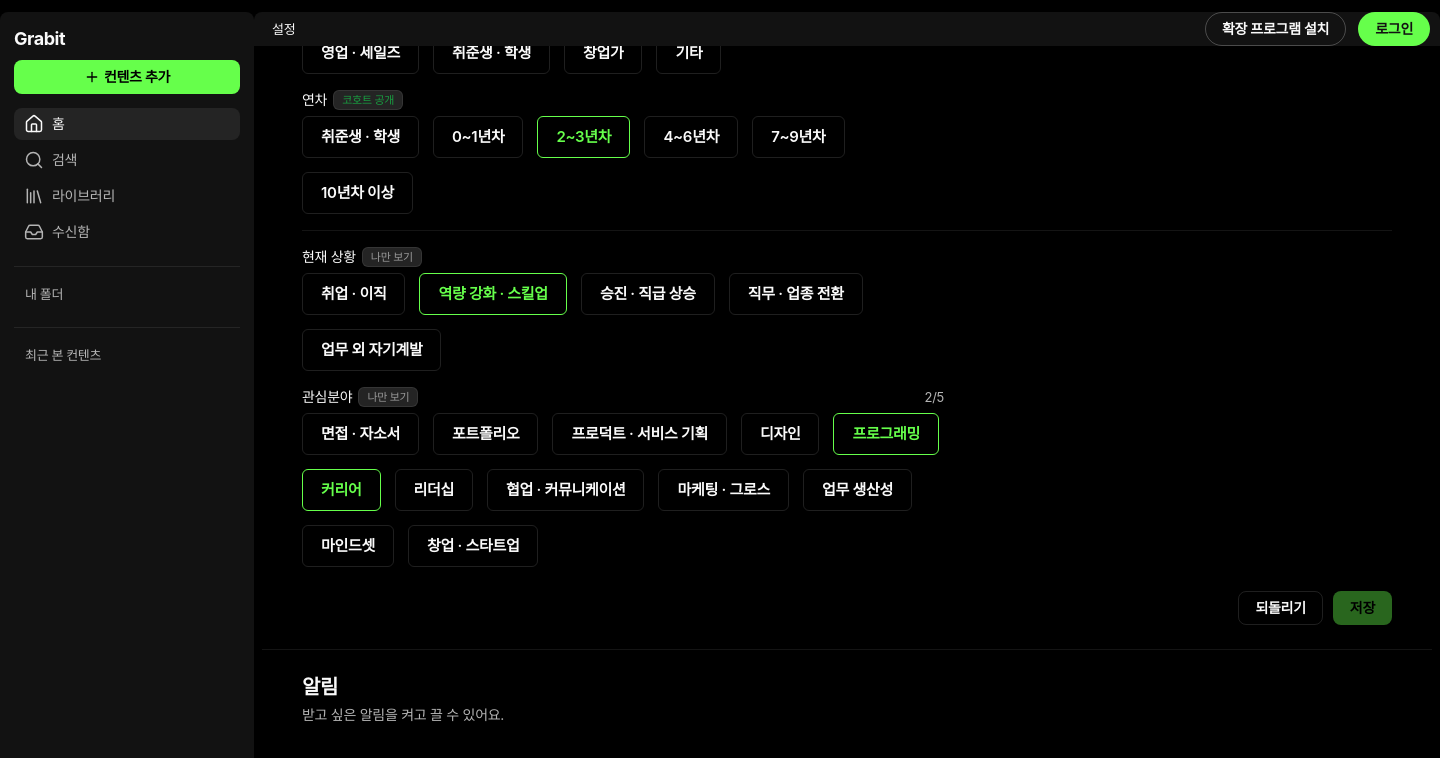
Scenario: settings contract › 프로필 수정: 관심분야 전부 해제 → 저장 차단(INTERESTS_MIN)
(page scrolled)
Click the button "프로그래밍".
click(886, 434)  # box [833, 413, 939, 455]
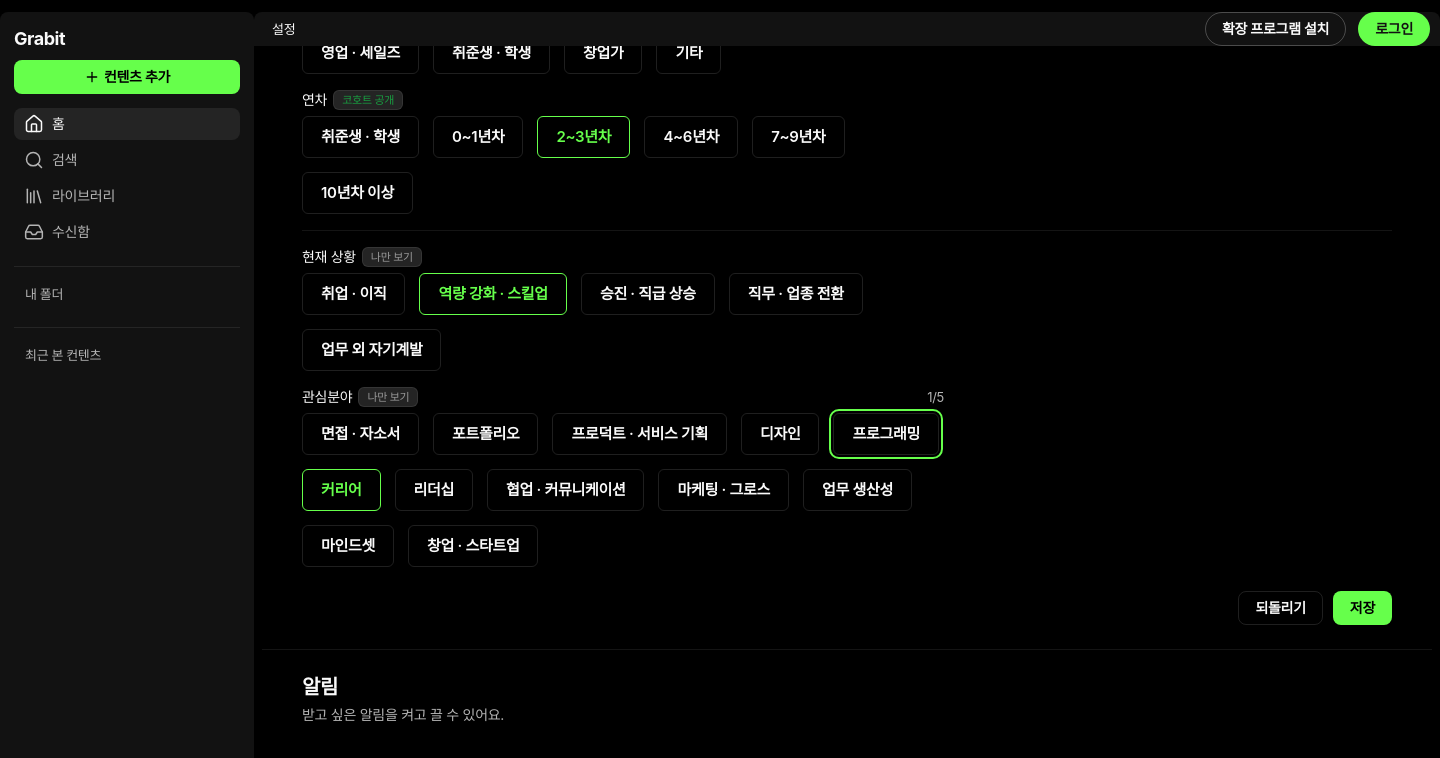
Click the button "커리어".
click(341, 490)  # box [302, 469, 380, 511]
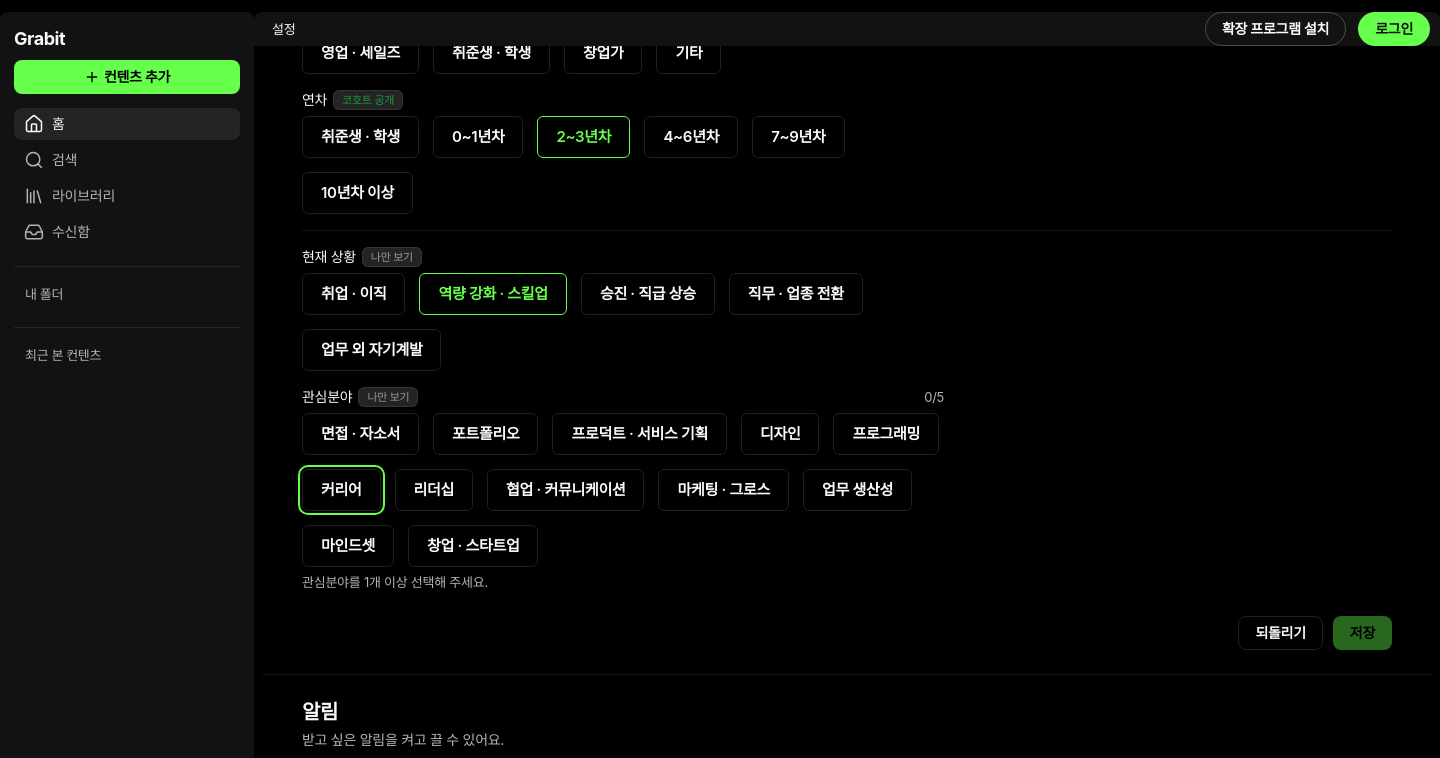
Result: the text "관심분야를 1개 이상 선택해 주세요." is shown at [302, 574, 488, 590]
Result: the button "저장" is disabled at [1333, 616, 1392, 650]
